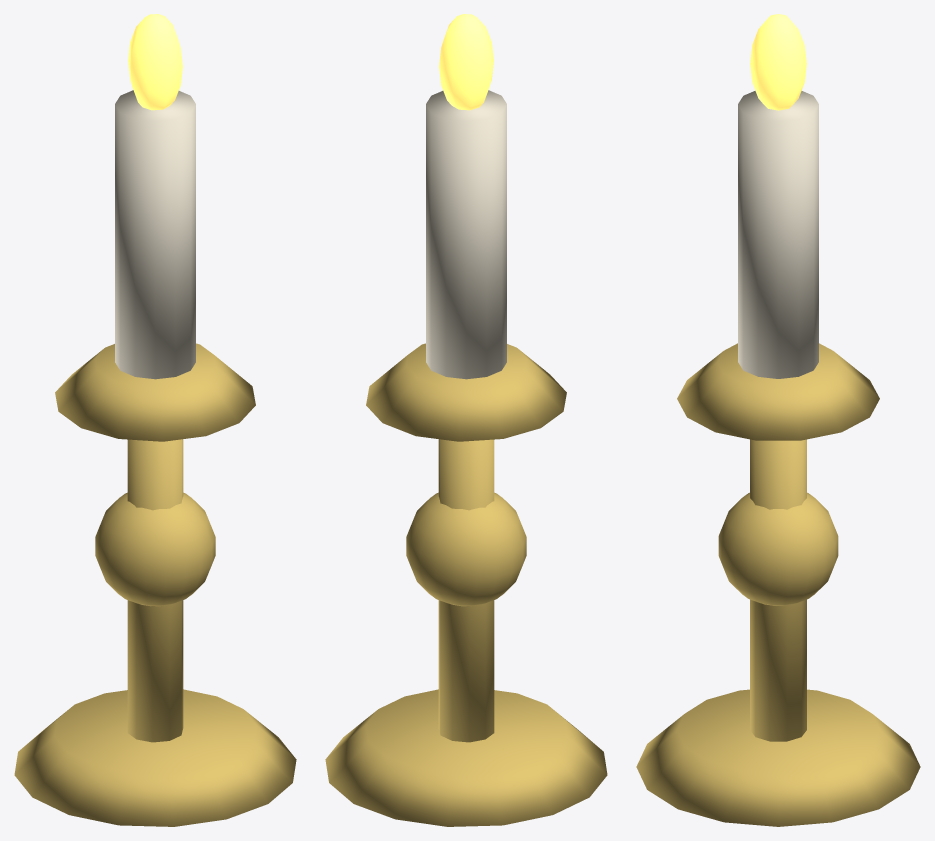
Rendered from candlestick.glb.
3 renders of one model, left to right at view 1: azimuth 30°, elevation 25°; view 2: azimuth 150°, elevation 25°; view 3: azimuth 270°, elevation 25°, orthographic.
Visible parts, largest first — view 1: GD_candlestick; view 2: GD_candlestick; view 3: GD_candlestick.
Part boxes in pixels (<box>): GD_candlestick: <box>14,14,296,826</box>; GD_candlestick: <box>325,14,607,826</box>; GD_candlestick: <box>636,14,920,826</box>.
Size of the model in its own units: 0.14 by 0.4086 by 0.14.
